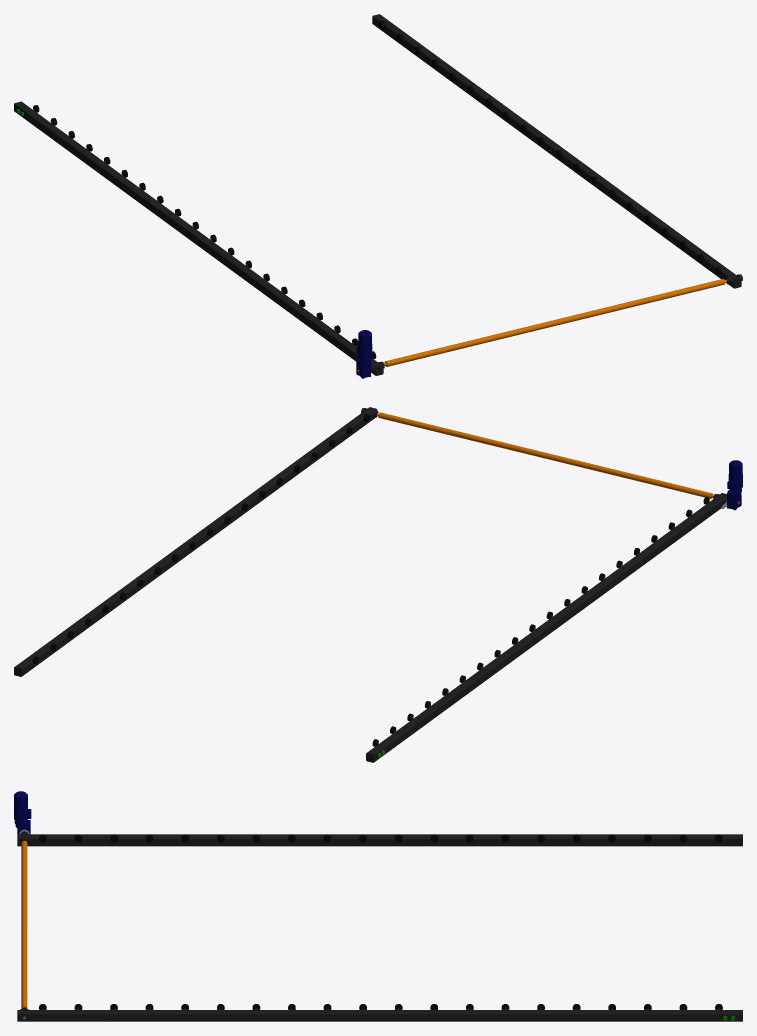
Rendered from SHELF-S-4.obj.
The picture shows the model from 3 angles, top to bottom: view 1: azimuth 30°, elevation 25°; view 2: azimuth 150°, elevation 25°; view 3: azimuth 270°, elevation 25°; orthographic projection. The views are drawn at different scales.
Visible parts, largest first — view 1: P072558; view 2: P072558; view 3: P072558.
Boxes of the visible parts, x1,y1,x2,y2 form: P072558: (14, 14, 742, 378); P072558: (14, 407, 742, 762); P072558: (14, 791, 742, 1021).
Bounding box in the file's own units: 5668 × 634 × 9260.
